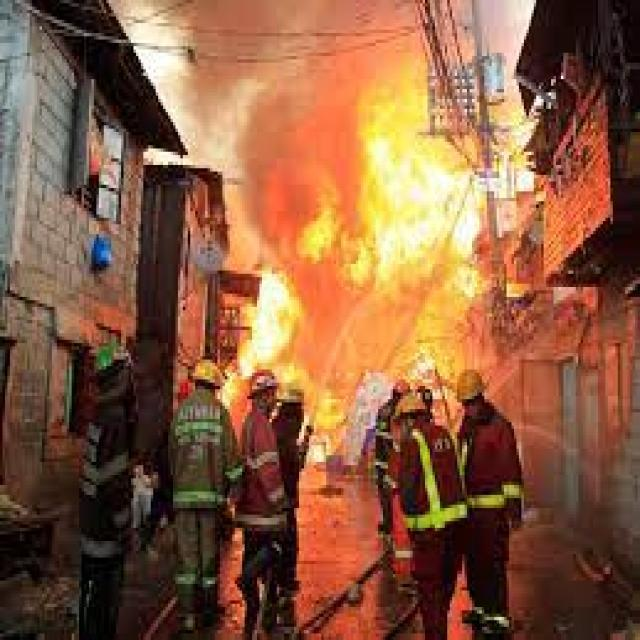Fire: (363, 129, 503, 286), (252, 271, 308, 372)
Smoke: (176, 3, 516, 209)
